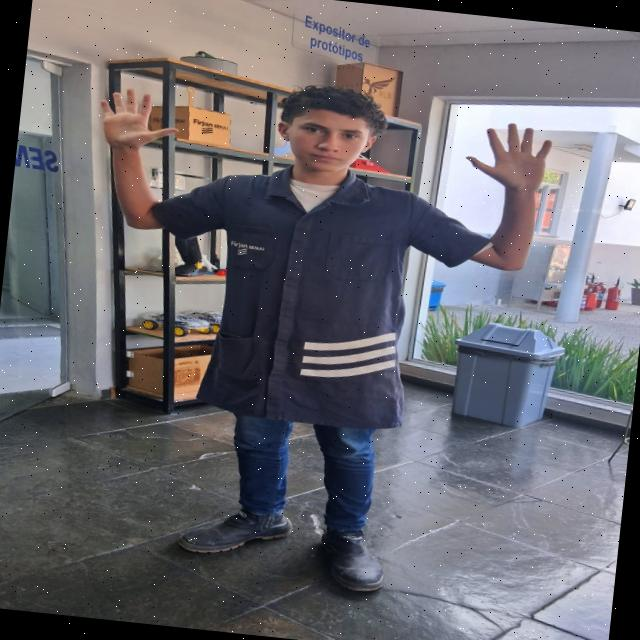BOTA: (307, 521, 392, 596), (178, 507, 297, 552)
JALECO: (155, 161, 498, 429)
SEM LUVA: (457, 121, 555, 192), (91, 87, 187, 148)
